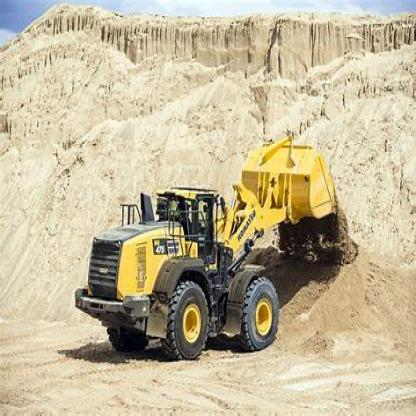bull_dozer/loader/grader: (74, 135, 346, 361)
